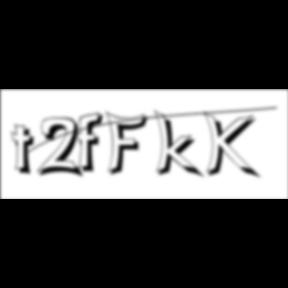2: (38, 117, 88, 181)
F: (106, 110, 154, 178)
K: (204, 110, 262, 182)
f: (76, 111, 110, 175)
k: (154, 108, 206, 181)
t: (12, 124, 42, 179)
